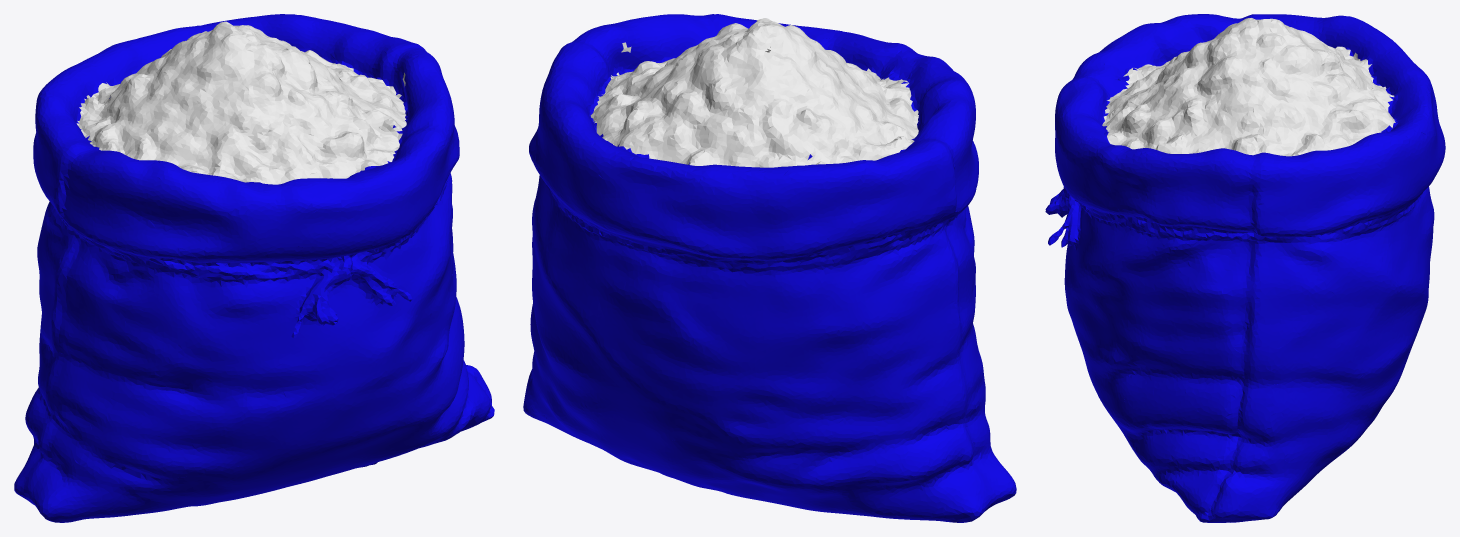
File: BAGH.fbx
3 views of the same model, side by side, from view 1: azimuth 30°, elevation 25°; view 2: azimuth 150°, elevation 25°; view 3: azimuth 270°, elevation 25° (orthographic). The views are drawn at different scales.
Parts seen in each view (by area): view 1: Getreidesack; view 2: Getreidesack; view 3: Getreidesack.
Part boxes in pixels (<box>): Getreidesack: <box>14,14,494,522</box>; Getreidesack: <box>523,14,1016,522</box>; Getreidesack: <box>1045,14,1445,522</box>.
Size of the model in its own units: 9995 by 9003 by 8079.
